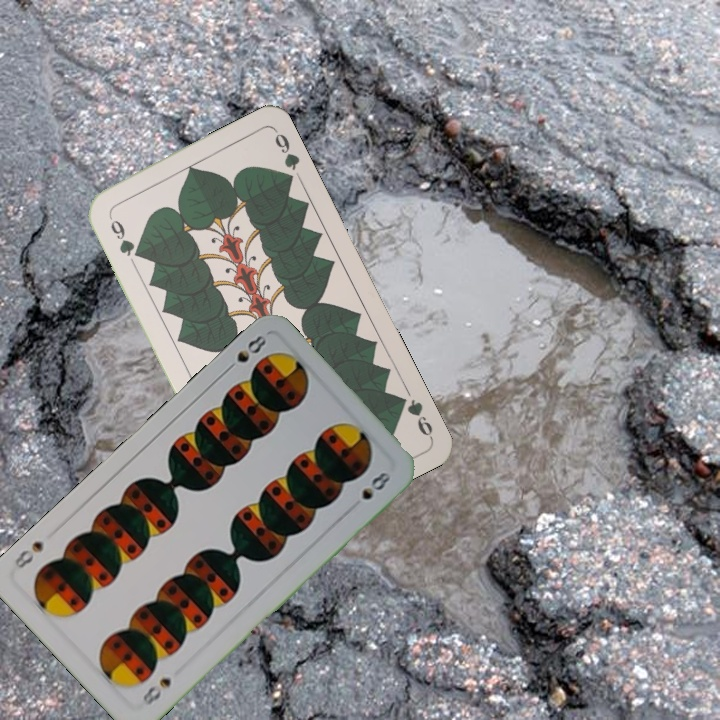G9: (392, 391, 436, 441), (104, 211, 143, 260)
S8: (220, 331, 269, 376), (138, 673, 174, 708)
